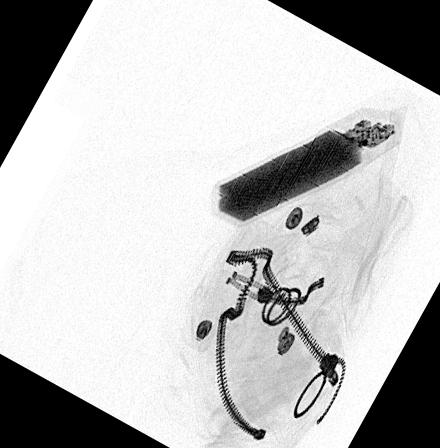Powerbank: (209, 105, 402, 226)
